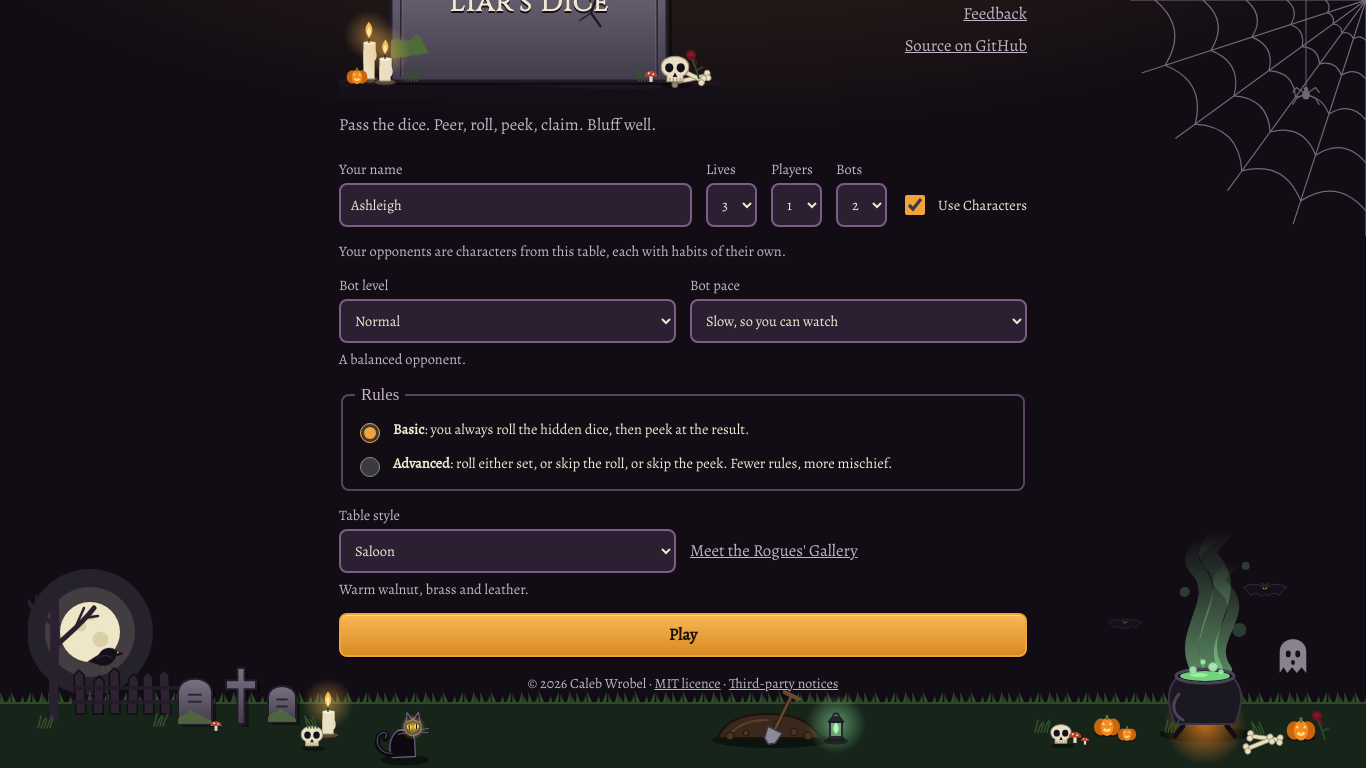
Test: App › seats characters from the table's cast by default, and plain bots when the box is cleared
The image size is (1366, 768).
(page scrolled)
Expected: the checkbox labelled "Use Characters" is checked, [905, 195, 925, 215]
Click the button "Play".
click(683, 635)  # box [339, 613, 1027, 657]
(page scrolled)
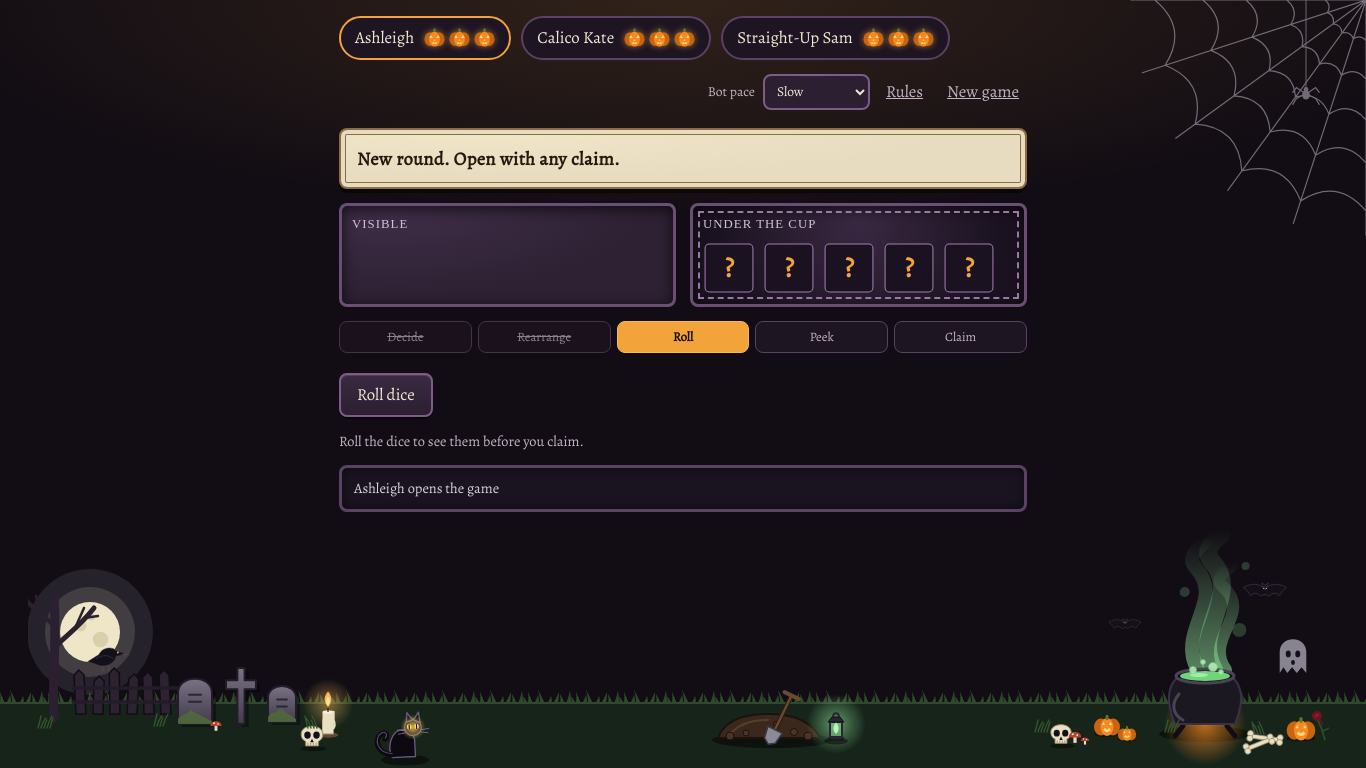
Now the text "Calico Kate" is shown, box [537, 26, 614, 50]
